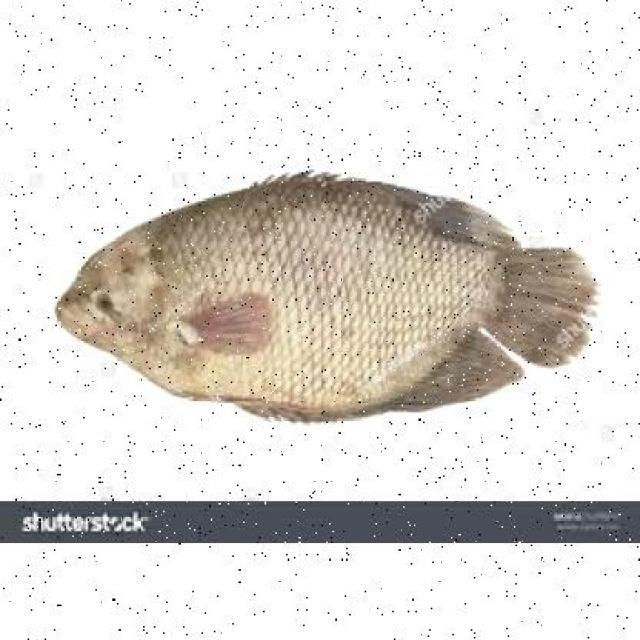gurame: (58, 172, 576, 431)
